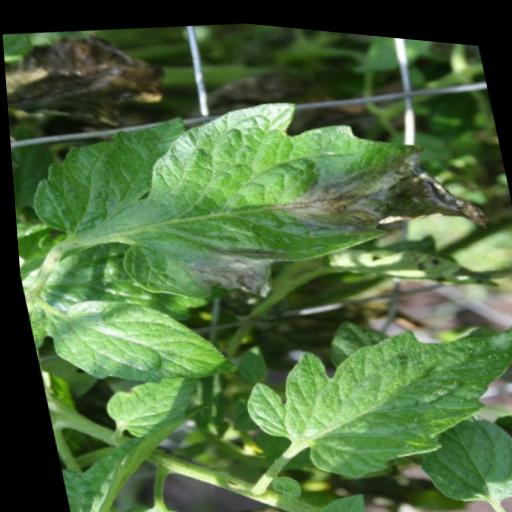Healthy: (219, 292, 512, 498), (30, 273, 239, 400)
Late Blight: (7, 46, 501, 343)
